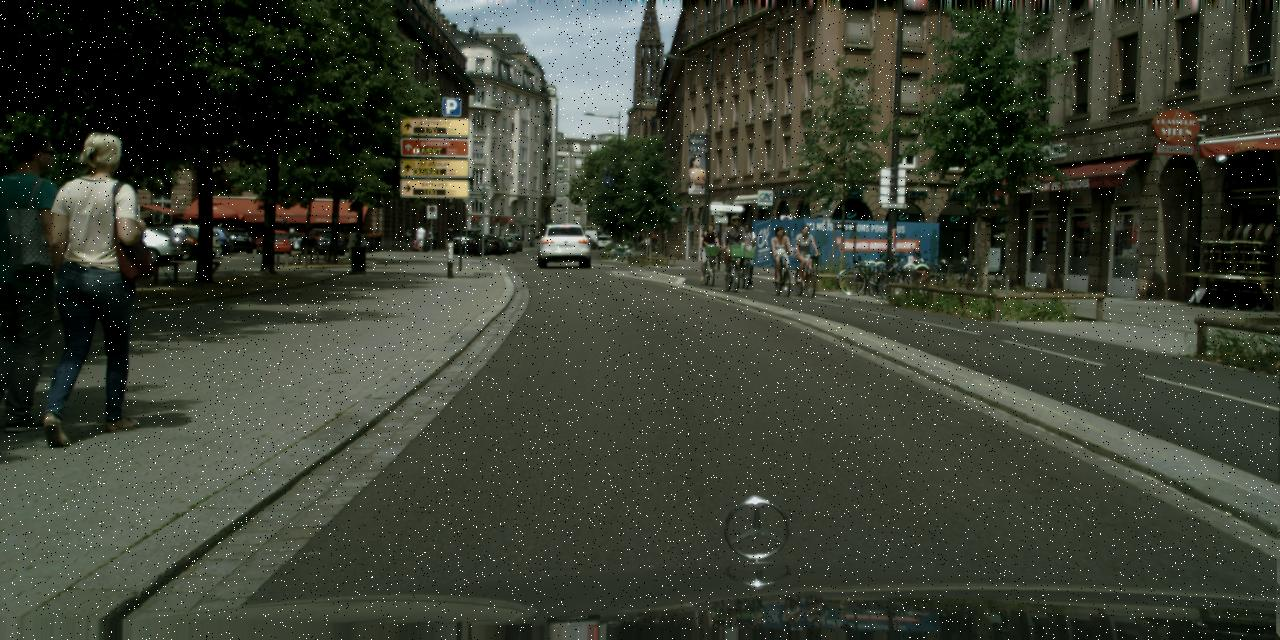ped: (34, 132, 160, 440), (0, 131, 77, 431), (768, 226, 793, 288), (734, 222, 758, 282), (722, 215, 745, 271), (794, 225, 817, 281), (698, 223, 719, 276), (414, 223, 426, 251), (403, 228, 412, 251), (13, 432, 20, 432)
